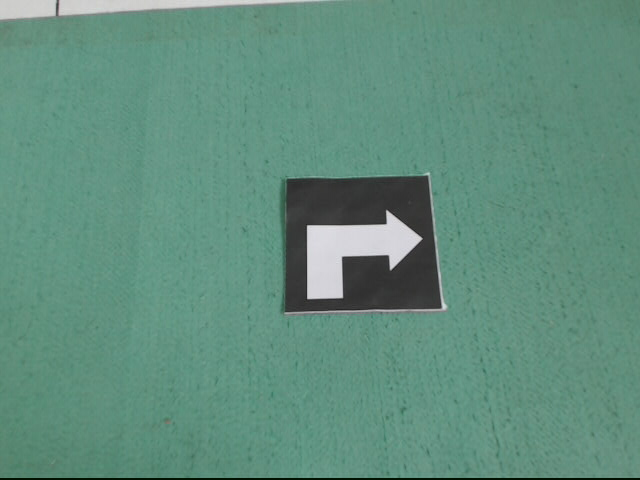right: (282, 172, 445, 313)
